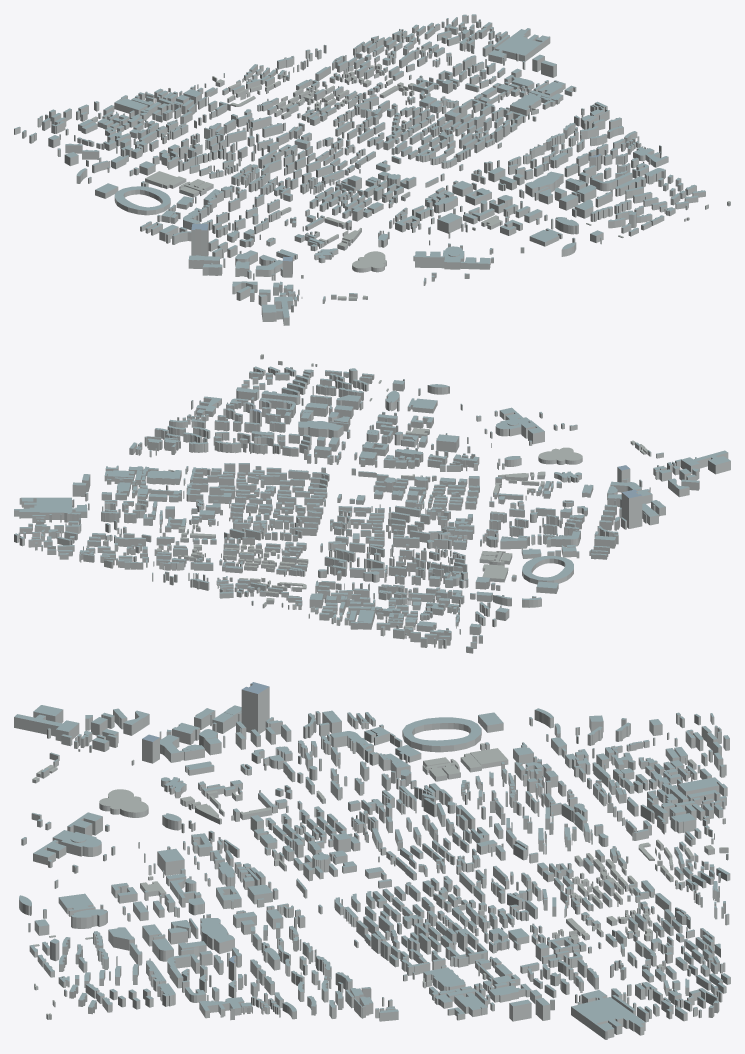
File: far.glb
3 views of the same model, one above another, from view 1: azimuth 30°, elevation 25°; view 2: azimuth 150°, elevation 25°; view 3: azimuth 270°, elevation 25° (orthographic). The views are drawn at different scales.
Size of the model in its own units: 2270 by 134 by 2127.
